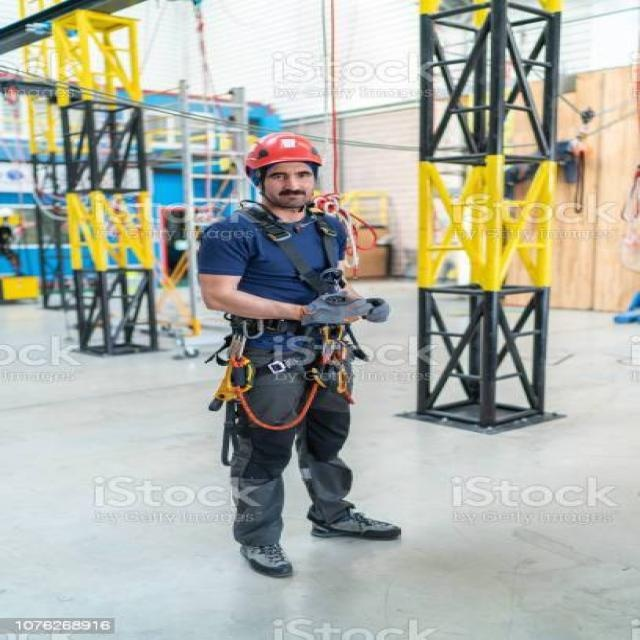Arnes_seguridad: (206, 203, 362, 423)
